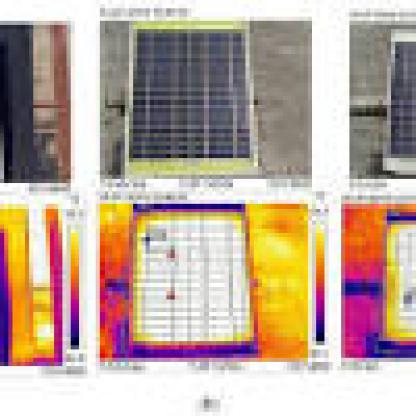Defects: (29, 204, 50, 283)
